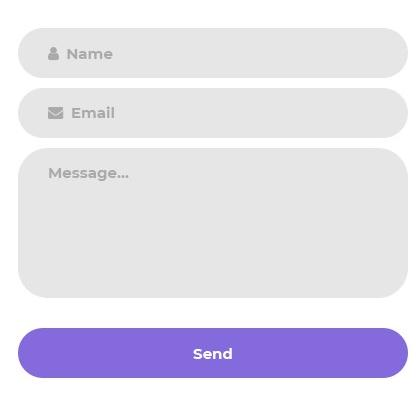button: (16, 326, 412, 382)
field: (19, 145, 406, 305), (16, 25, 410, 79), (16, 86, 411, 138)
